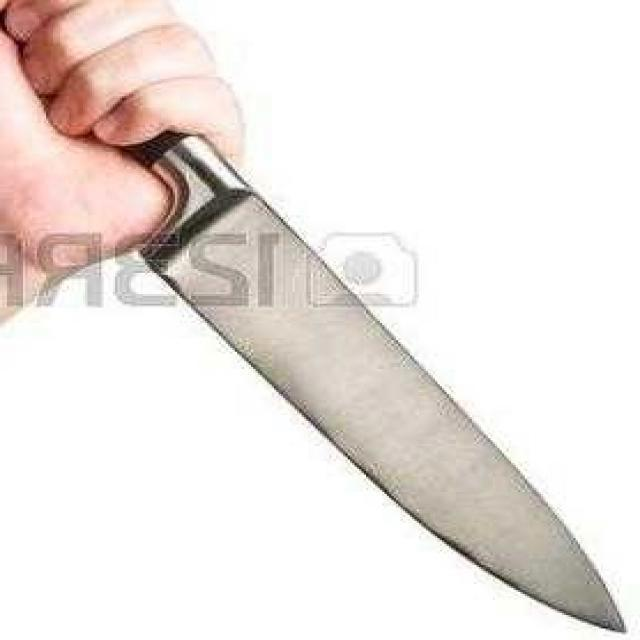Knife: (127, 129, 627, 634)
Knife_Handle: (2, 3, 628, 640)
